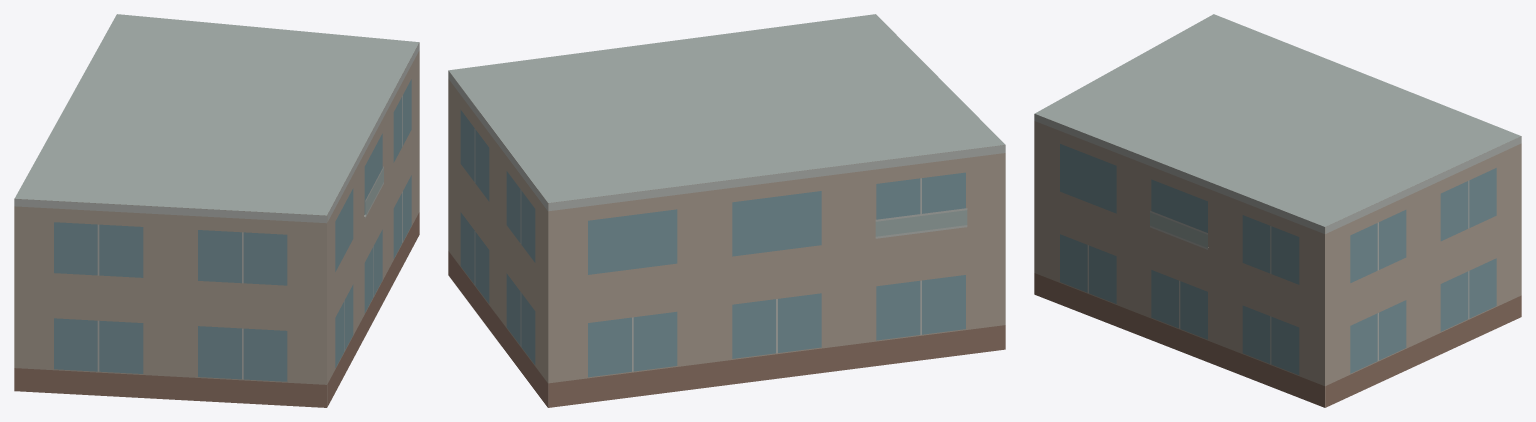
The model's file is survey-upis-32985610.glb.
The picture shows the model from 3 angles, left to right: view 1: azimuth 30°, elevation 25°; view 2: azimuth 150°, elevation 25°; view 3: azimuth 270°, elevation 25°; orthographic projection. The views are drawn at different scales.
Visible parts, largest first — view 1: survey-upis-32985610.tmp; view 2: survey-upis-32985610.tmp; view 3: survey-upis-32985610.tmp.
Part boxes in pixels (x1=…): survey-upis-32985610.tmp: x1=14, y1=14, x2=419, y2=407; survey-upis-32985610.tmp: x1=448, y1=14, x2=1005, y2=407; survey-upis-32985610.tmp: x1=1034, y1=14, x2=1521, y2=407.
Bounding box in the file's own units: 15.42 × 6.1 × 14.9.
